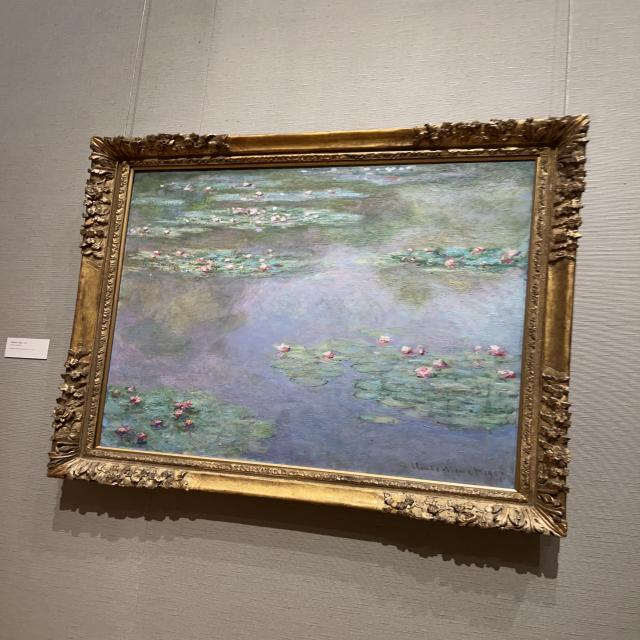lilies: (102, 163, 529, 484)
